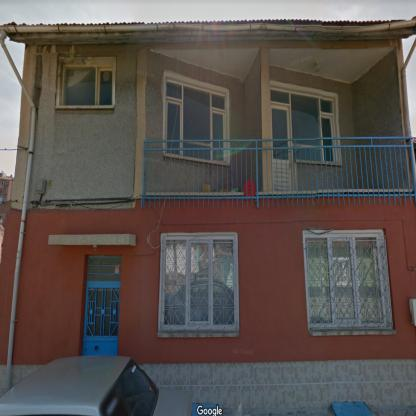door: (83, 256, 121, 354), (272, 106, 291, 191)
window: (304, 232, 390, 326), (159, 233, 237, 330), (271, 81, 341, 162), (165, 73, 228, 162), (58, 58, 113, 105)
